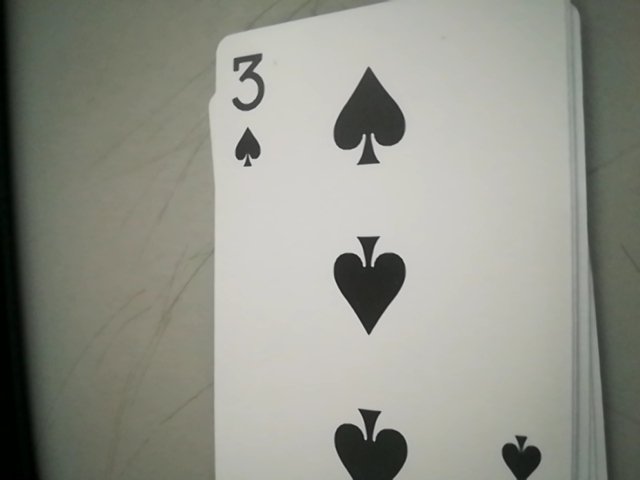ht 3: (212, 53, 296, 174)
